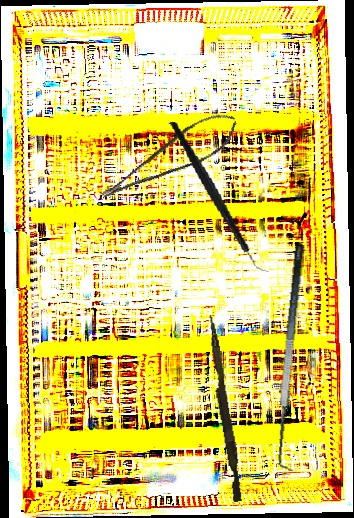Chopper: (168, 109, 272, 285)
Micro Scissor: (89, 106, 246, 204)
Pusher: (201, 314, 247, 503)
Spatula Surgical: (265, 243, 325, 472)
